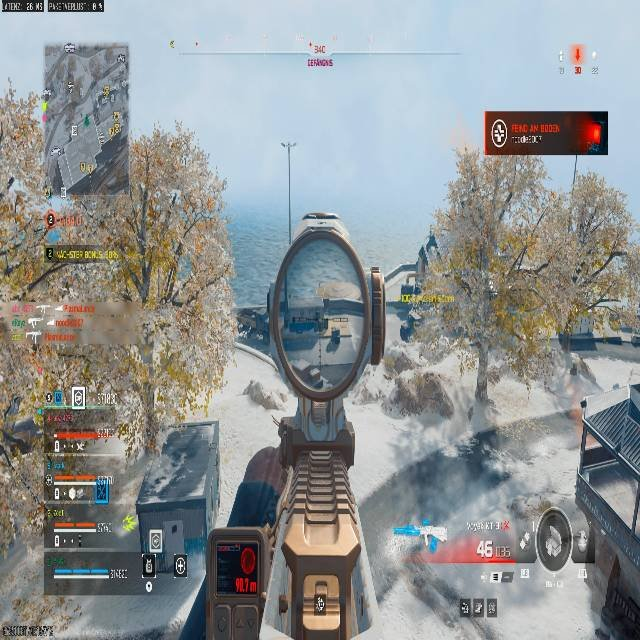player: (397, 308, 419, 343), (400, 316, 414, 342)
